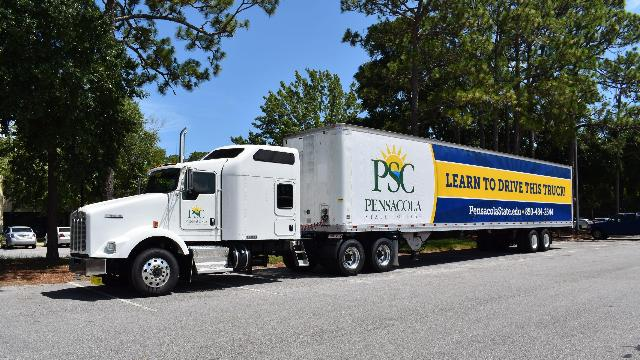truck: (36, 128, 607, 284)
